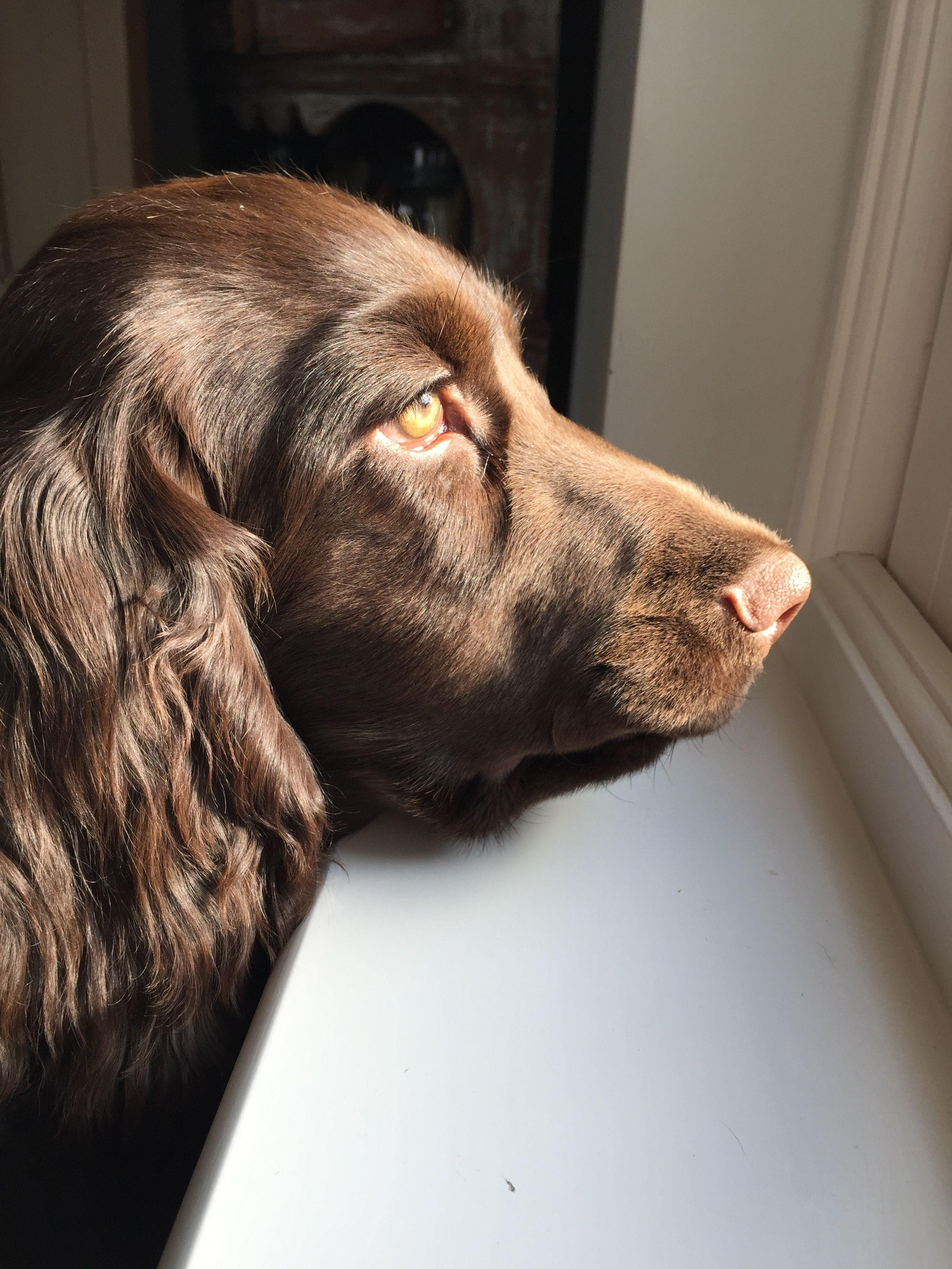adult_dog: (1, 170, 815, 1269)
